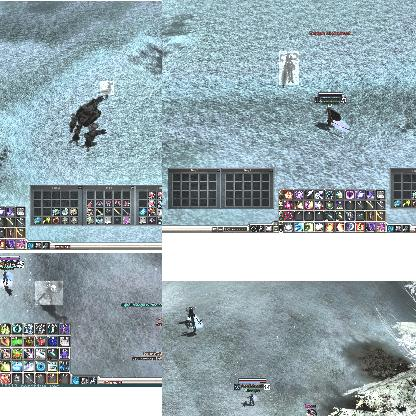caliana: (279, 51, 299, 85), (35, 281, 63, 305), (186, 318, 202, 334), (100, 81, 114, 95), (186, 306, 196, 320)
